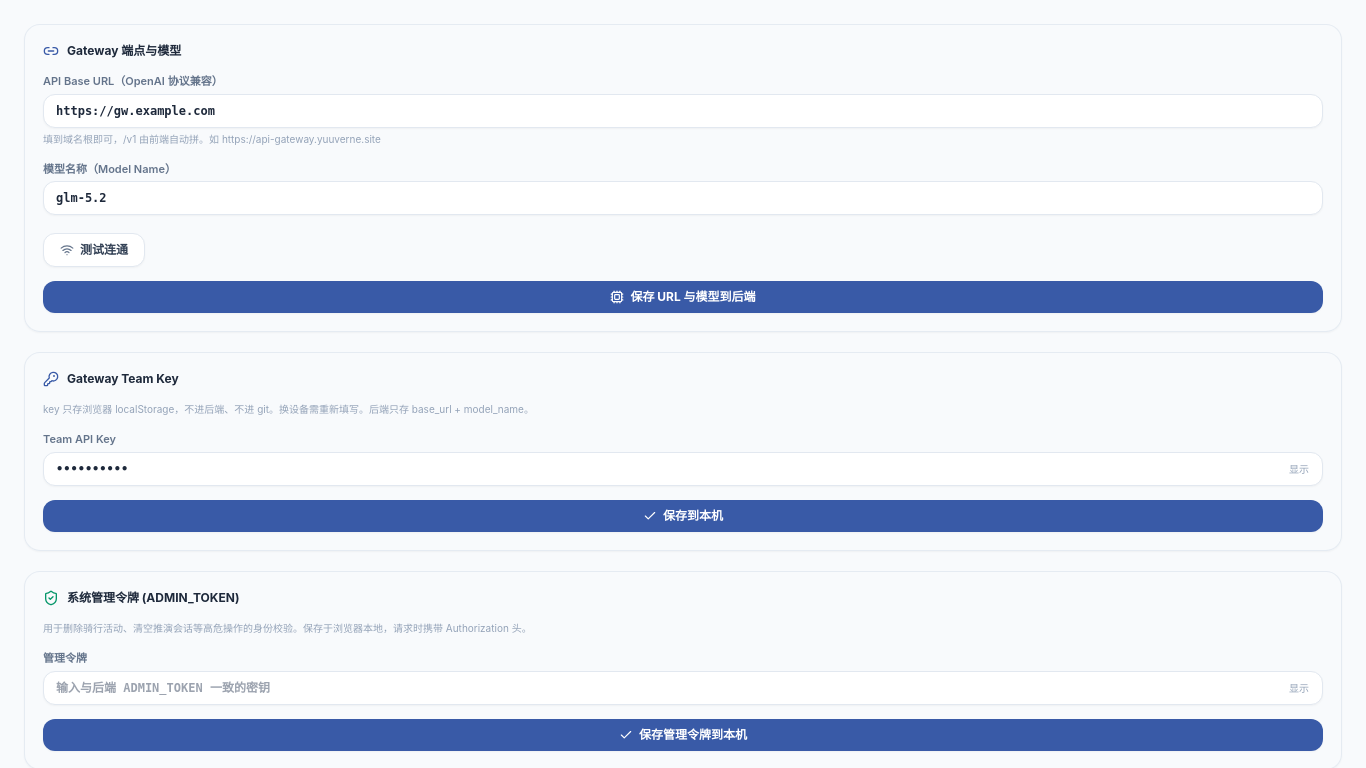
AIGatewayConfigTab AI 接入配置 › 测试连通失败（key 无效 401）：展示错误
Step 1. Click the button "测试连通" → click(94, 250), box [43,233,145,267]
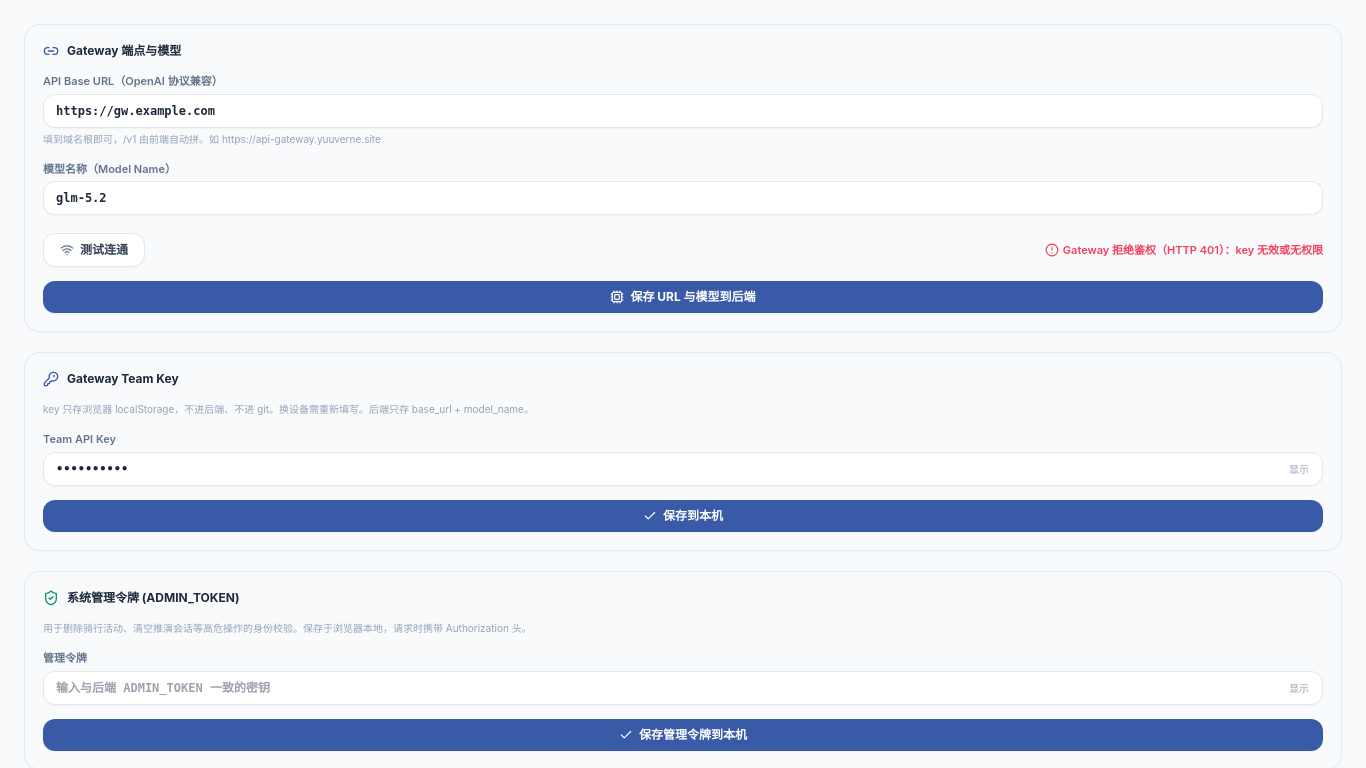
Result: the text "Gateway 拒绝鉴权（HTTP 401）：key 无效或无权限" is shown at [1063,242,1323,258]
